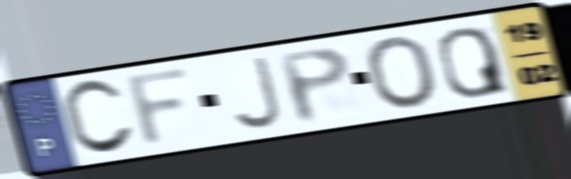C: (58, 77, 139, 159)
F: (122, 62, 196, 152)
J: (228, 54, 285, 133)
O: (362, 33, 443, 112)
P: (273, 44, 355, 127)
Q: (434, 24, 513, 100)
